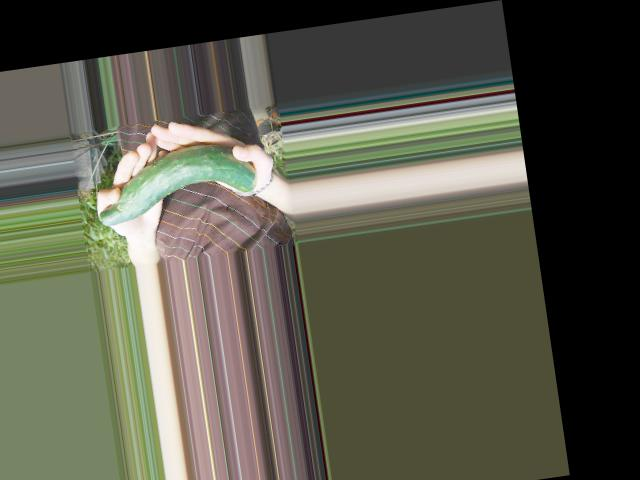cucumber: (92, 137, 261, 226)
